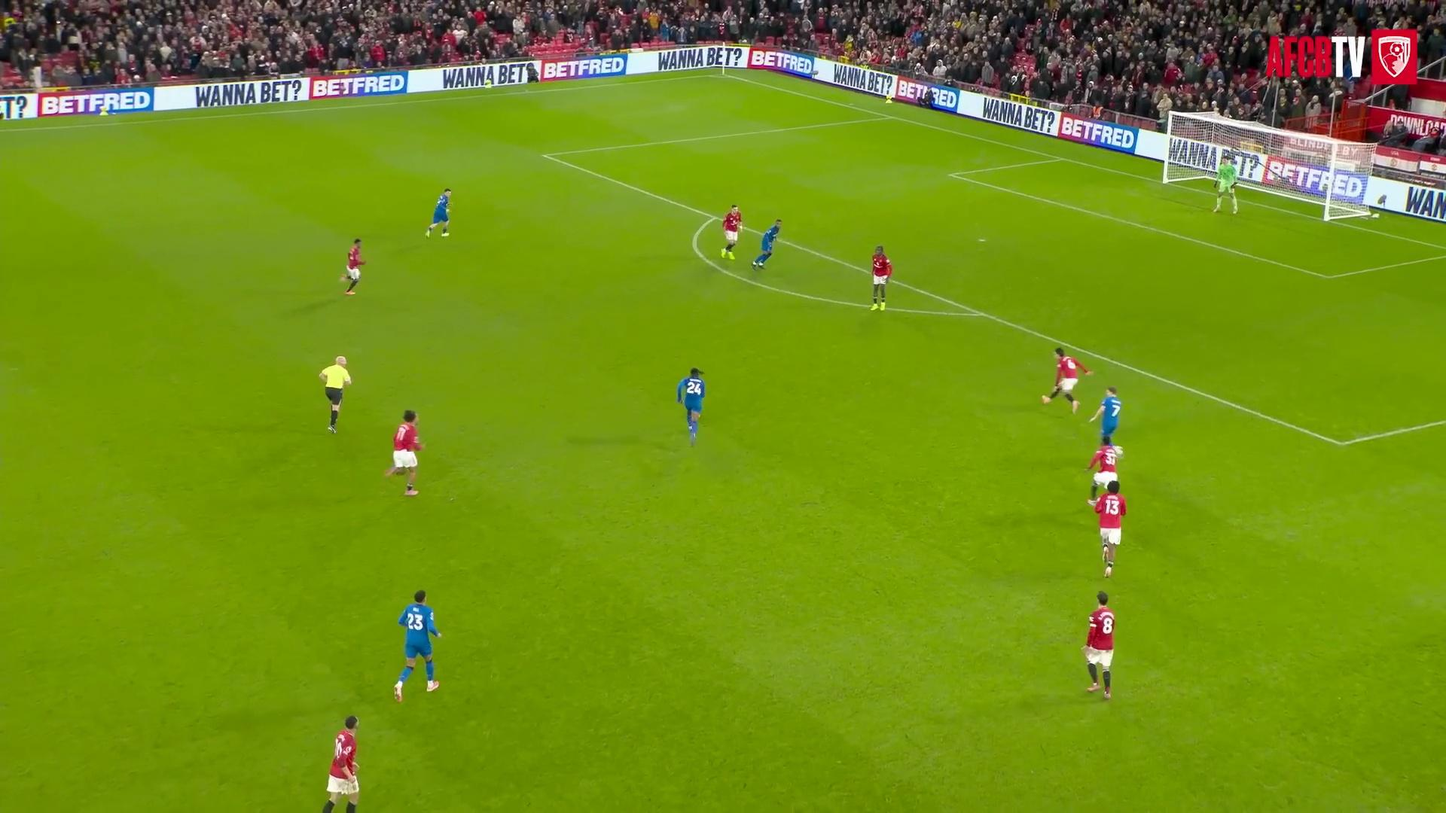football: (1113, 446, 1124, 457)
player: (394, 590, 441, 702), (322, 715, 358, 812), (1083, 592, 1115, 699), (385, 410, 423, 495), (1042, 347, 1091, 412), (1094, 479, 1126, 577), (1085, 436, 1118, 505), (676, 369, 705, 444), (1090, 386, 1121, 441), (1213, 154, 1237, 213), (340, 239, 365, 295), (752, 219, 780, 269), (870, 247, 892, 309), (426, 188, 450, 237), (721, 204, 741, 258)
referee: (319, 357, 351, 433)
